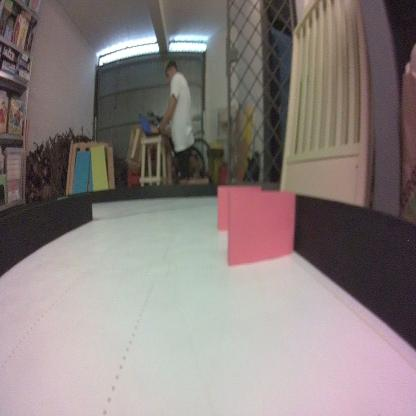magenta: (228, 190, 296, 262), (216, 181, 263, 231)
